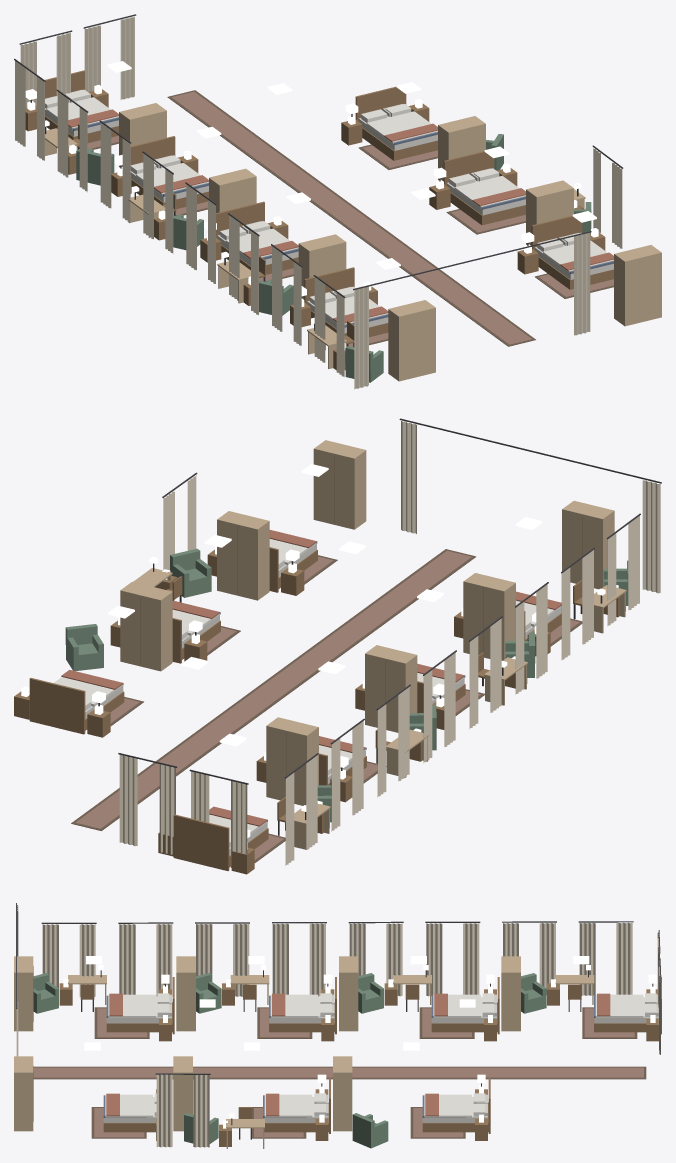
The model's file is fine-s2.glb.
3 views of the same model, one above another, from view 1: azimuth 30°, elevation 25°; view 2: azimuth 150°, elevation 25°; view 3: azimuth 270°, elevation 25° (orthographic). The views are drawn at different scales.
Visible parts, largest first — view 1: soft-s2, dresser.009, dresser.013, bed-frame.008, bed-frame.007, bed-frame.009, dresser.007, dresser.008, dresser.012, dresser.010, dresser.011, bed-frame.011 (+10 smaller); view 2: soft-s2, dresser.009, dresser.008, dresser.007, dresser.010, dresser.012, dresser.011, dresser.013, bed-frame.007, bed-frame.010, lounge-chair.006, lounge-chair.007 (+6 smaller); view 3: soft-s2, dresser.010, dresser.012, dresser.007, dresser.009, dresser.011, dresser.013, dresser.008, bed-frame.007, bed-frame.011, bed-frame.013, bed-frame.008 (+14 smaller).
Boxes of the visible parts, x1,y1,x2,y2 form: soft-s2: (14,14,623,389); dresser.009: (614,245,661,326); dresser.013: (388,300,435,381); bed-frame.008: (443,151,525,225); bed-frame.007: (355,86,437,160); bed-frame.009: (531,215,613,289); dresser.007: (438,116,485,181); dresser.008: (526,180,573,245); dresser.012: (298,234,346,299); dresser.010: (119,103,166,167); dresser.011: (209,168,256,212); bed-frame.011: (130,136,208,208); soft-s2: (53,418,661,867); dresser.009: (313,440,366,529); dresser.008: (217,511,269,600); dresser.007: (120,582,172,671); dresser.010: (266,717,318,805); dresser.012: (463,573,515,660); dresser.011: (365,645,417,732); dresser.013: (562,500,614,589); bed-frame.007: (29,678,124,734); bed-frame.010: (173,814,268,870); lounge-chair.006: (65,624,103,670); lounge-chair.007: (170,548,211,597); soft-s2: (16,903,661,1147); dresser.010: (501,956,520,1031); dresser.012: (176,956,195,1031); dresser.007: (333,1056,352,1131); dresser.009: (14,1056,33,1131); dresser.011: (339,956,358,1031); dresser.013: (14,956,33,1031); dresser.008: (173,1056,192,1131); bed-frame.007: (422,1077,490,1133); bed-frame.011: (431,977,499,1034); bed-frame.013: (106,977,174,1034); bed-frame.008: (263,1077,330,1133).
Bounding box in the file's own units: 11.25 × 3.16 × 20.03.
